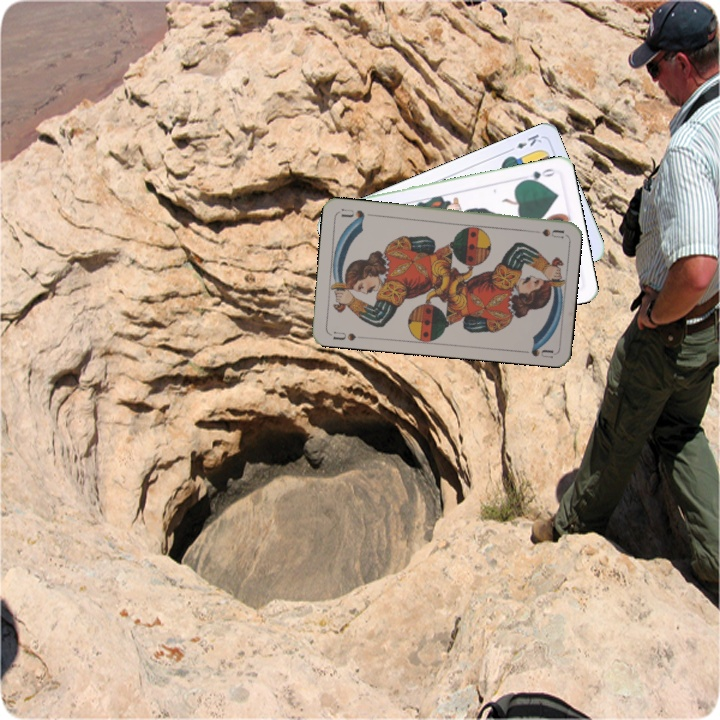EK: (504, 130, 544, 155)
GO: (518, 164, 558, 184)
SU: (329, 327, 358, 343), (538, 225, 566, 241)
